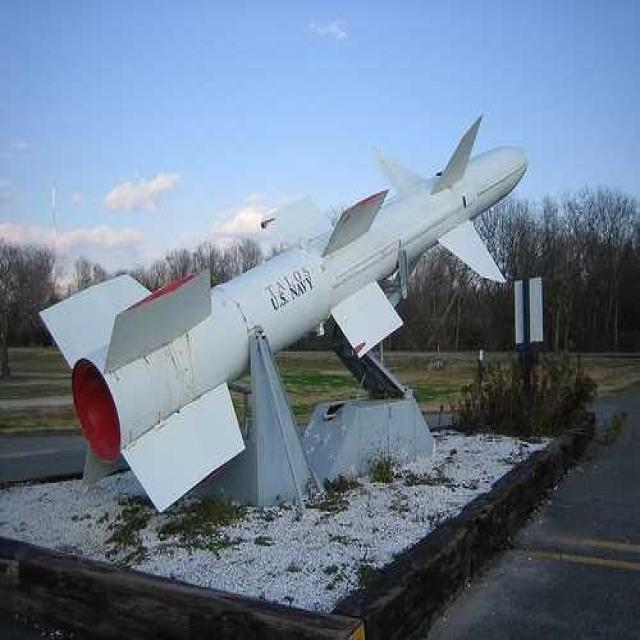missile: (46, 107, 528, 518)
